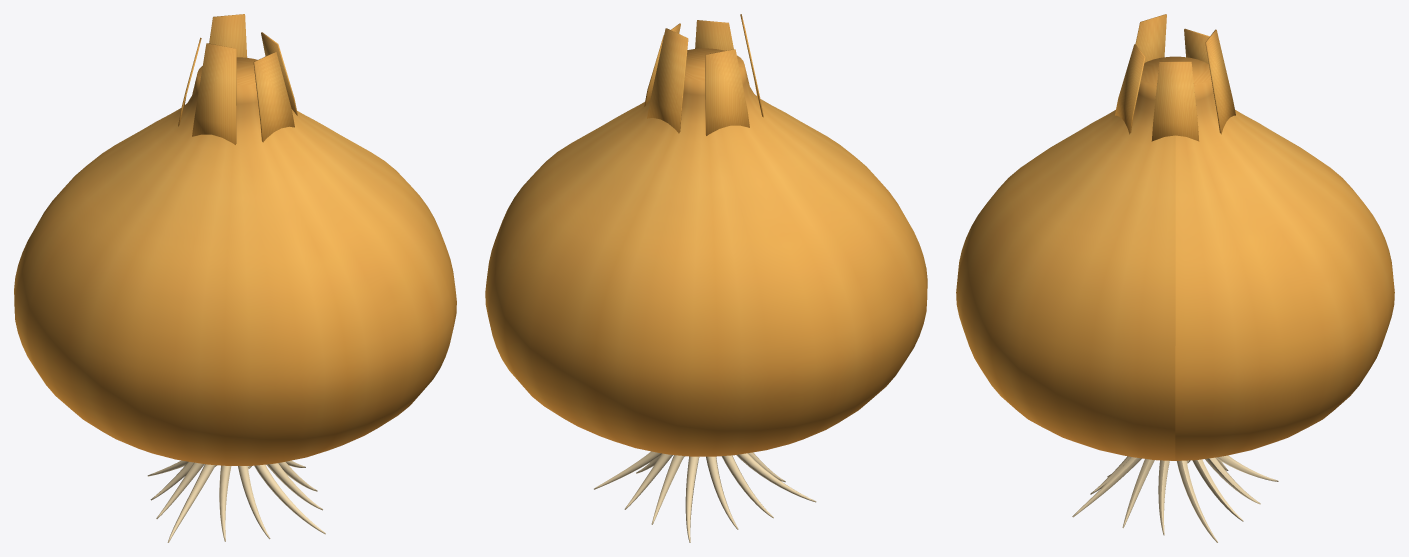
File: NP_Onion_Harvest.fbx
The picture shows the model from 3 angles, left to right: view 1: azimuth 30°, elevation 25°; view 2: azimuth 150°, elevation 25°; view 3: azimuth 270°, elevation 25°; orthographic projection.
Visible parts, largest first — view 1: NP_Onion_Harvest; view 2: NP_Onion_Harvest; view 3: NP_Onion_Harvest.
Part boxes in pixels (bbox=[...]): NP_Onion_Harvest: bbox=[14, 14, 456, 542]; NP_Onion_Harvest: bbox=[485, 14, 927, 542]; NP_Onion_Harvest: bbox=[956, 14, 1394, 542].
Bounding box in the file's own units: 43.49 × 51.26 × 43.49.
